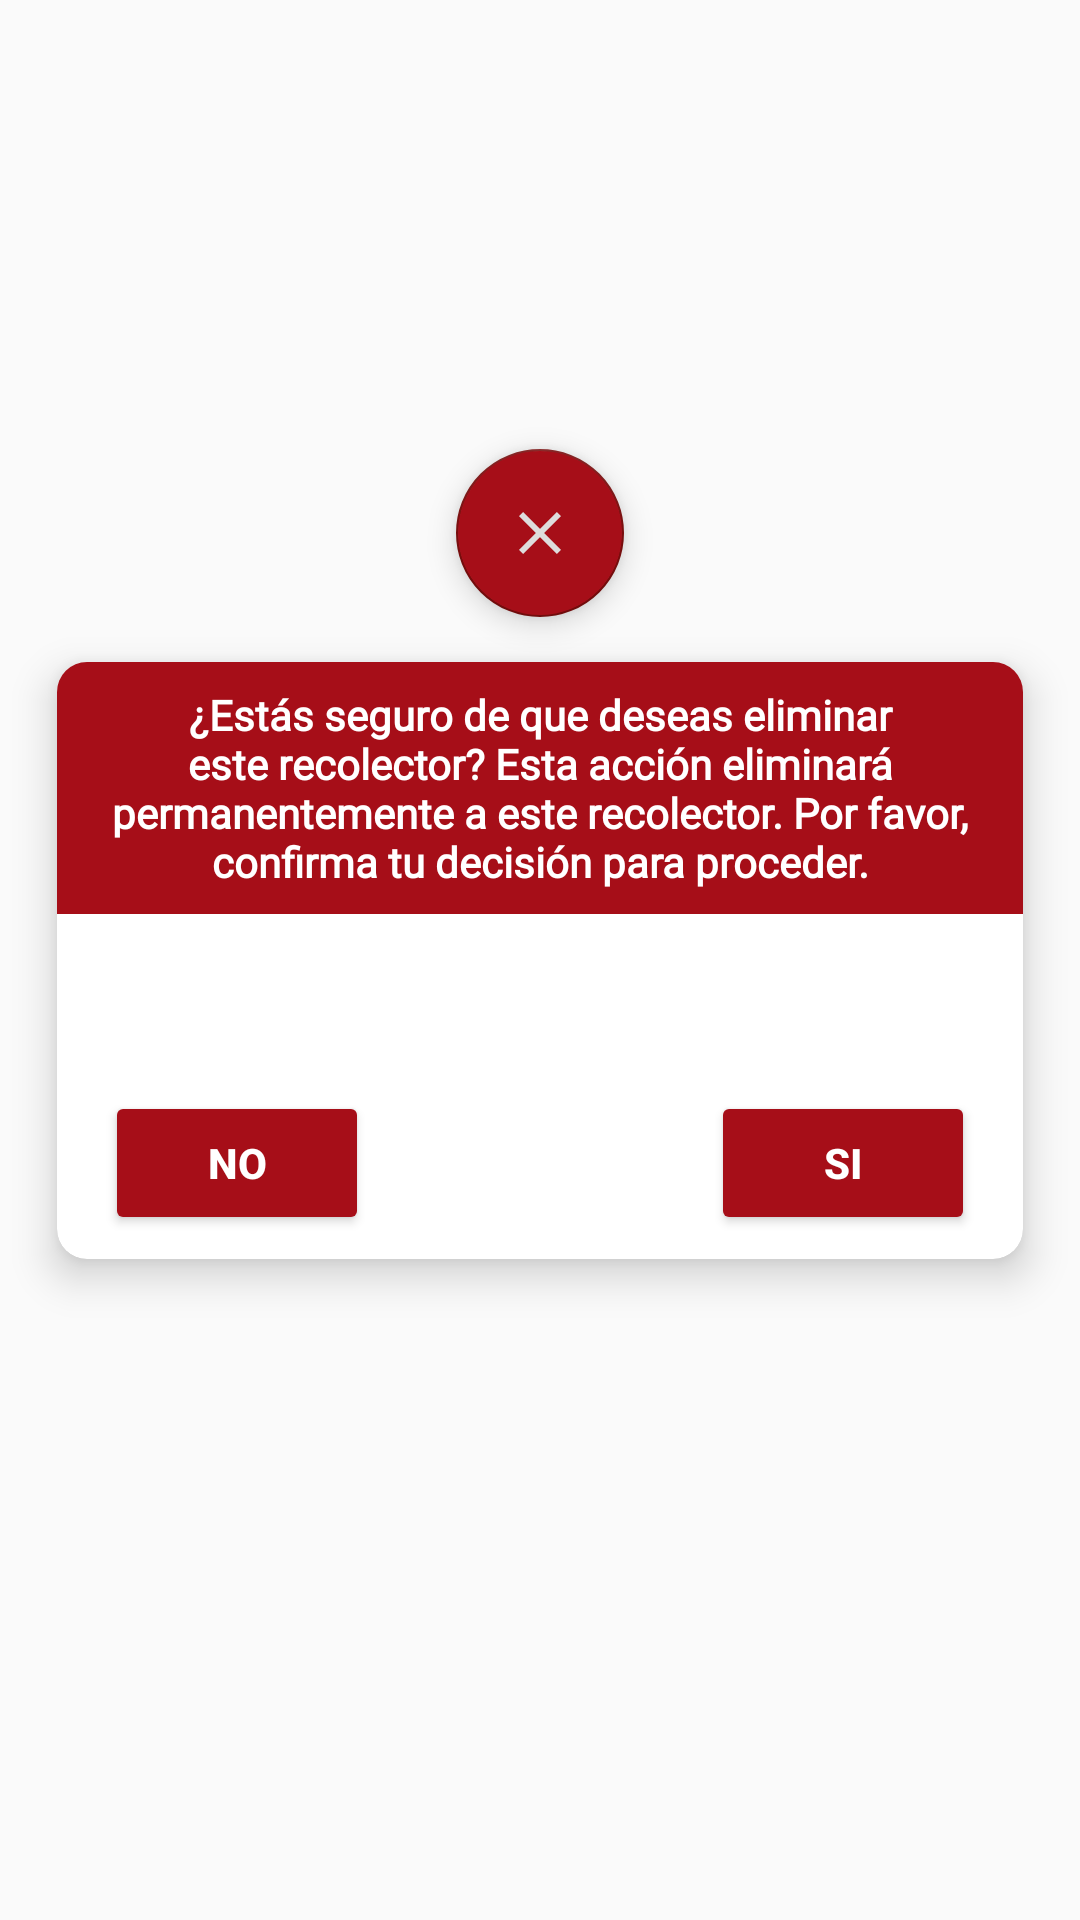

Point at icon controls on the screen. Image size 1080px×1920px, points as (x=x, y=y).
close: (x=540, y=533)
